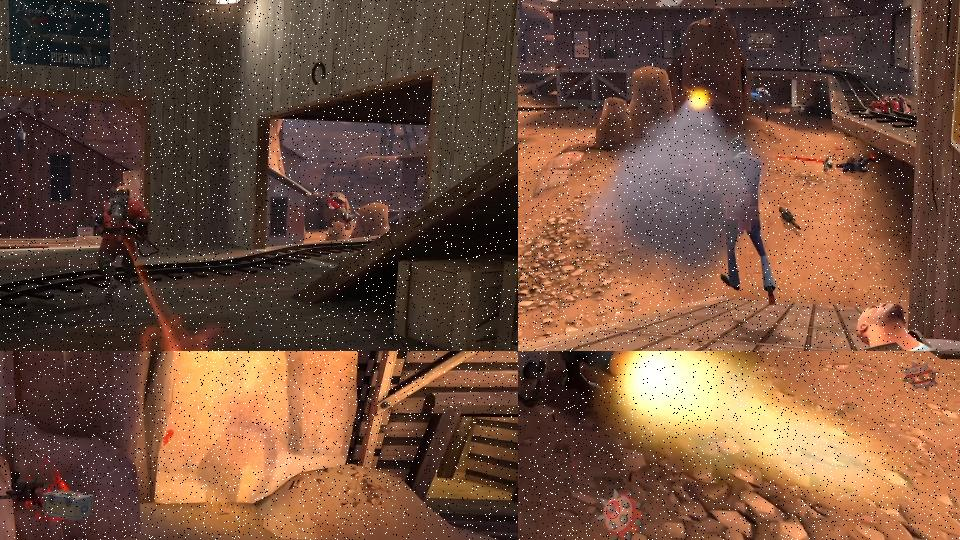Enemy: (698, 135, 784, 316), (89, 183, 161, 301), (317, 189, 363, 242), (753, 84, 775, 125)
